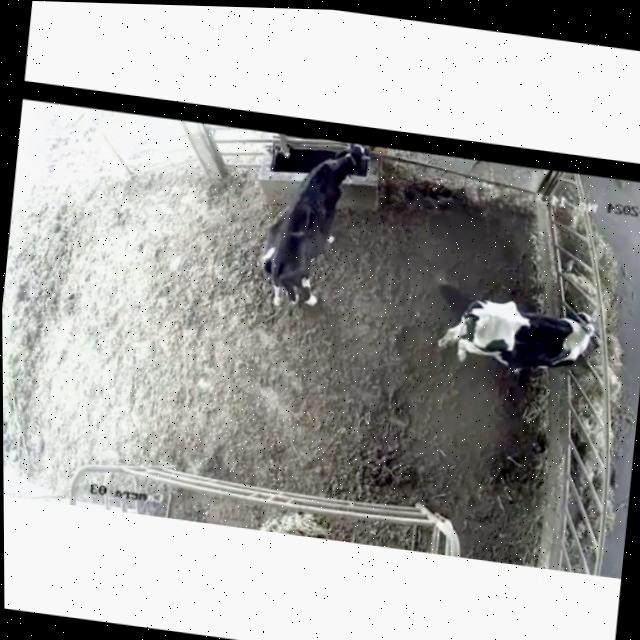drink: (300, 139, 381, 205)
eat: (528, 296, 634, 376)
